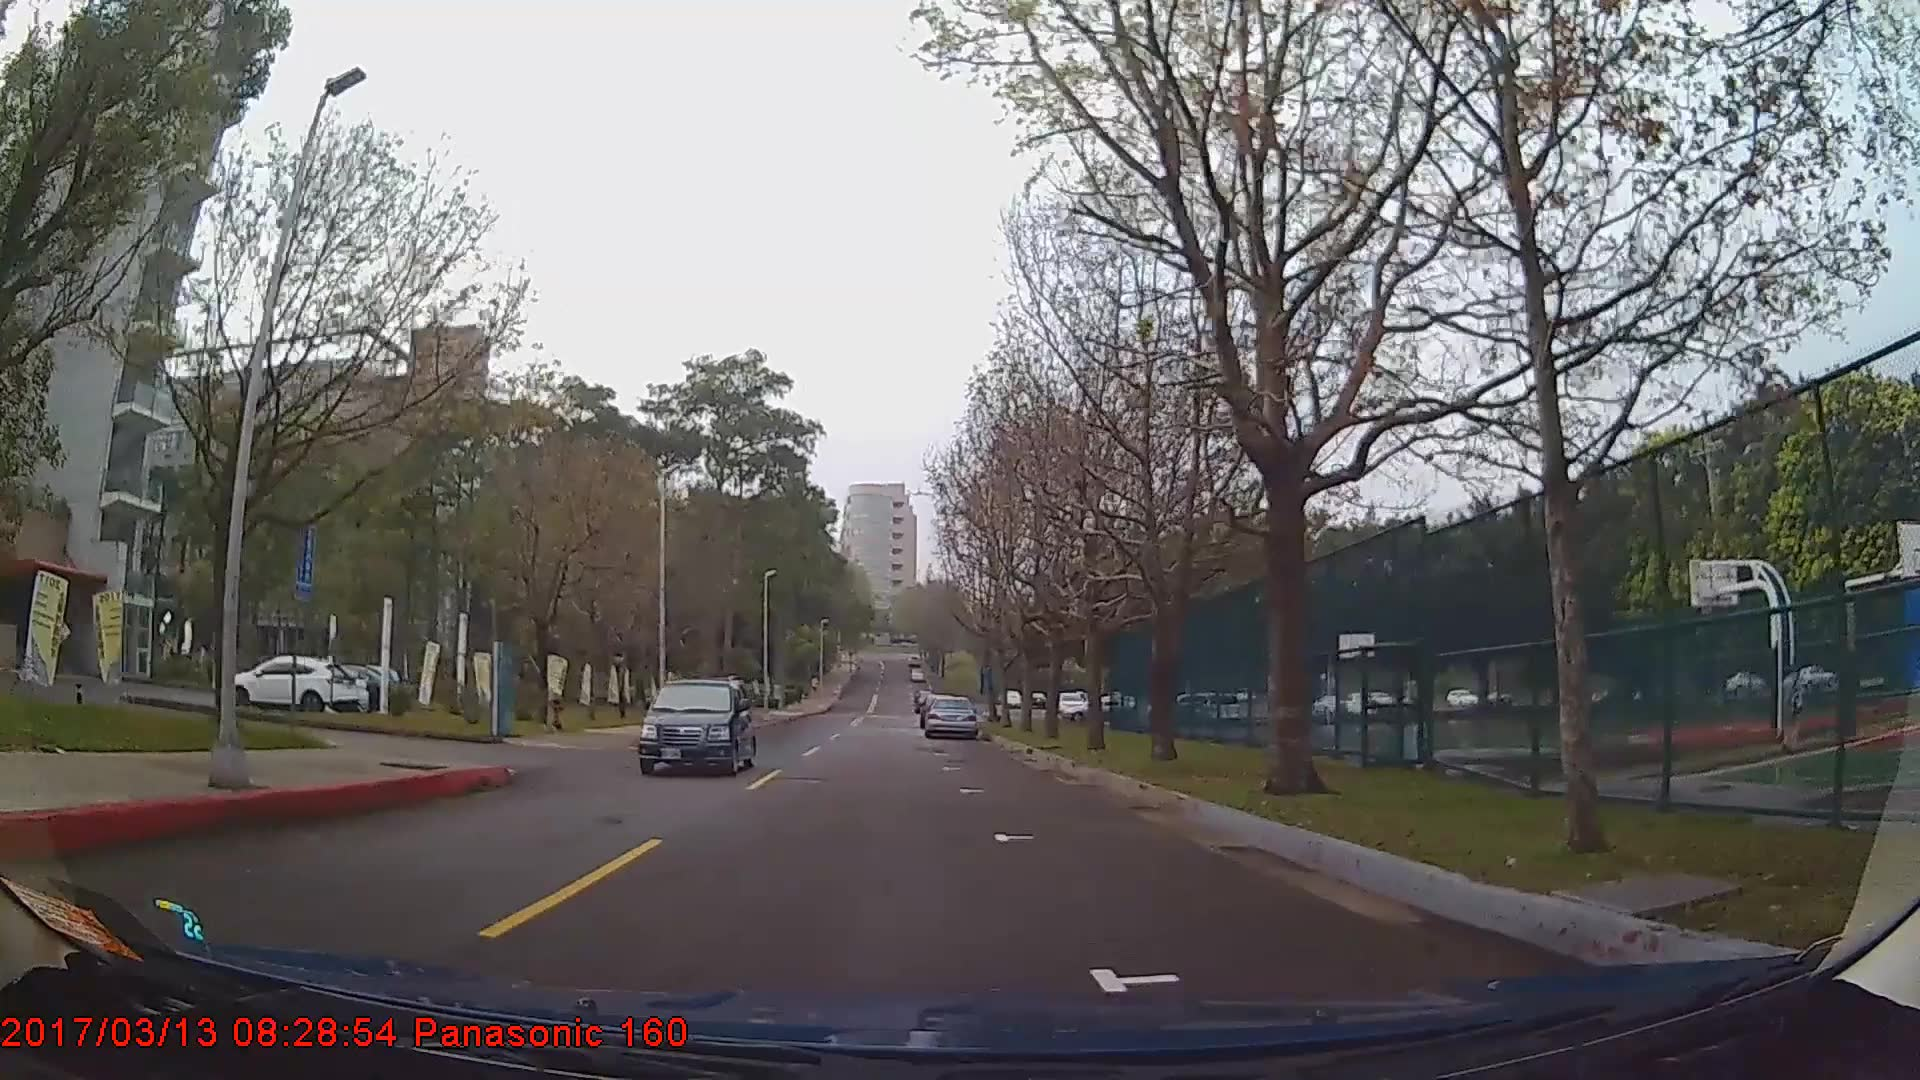vehicle: (636, 674, 757, 777), (229, 651, 359, 720), (923, 694, 978, 740)
